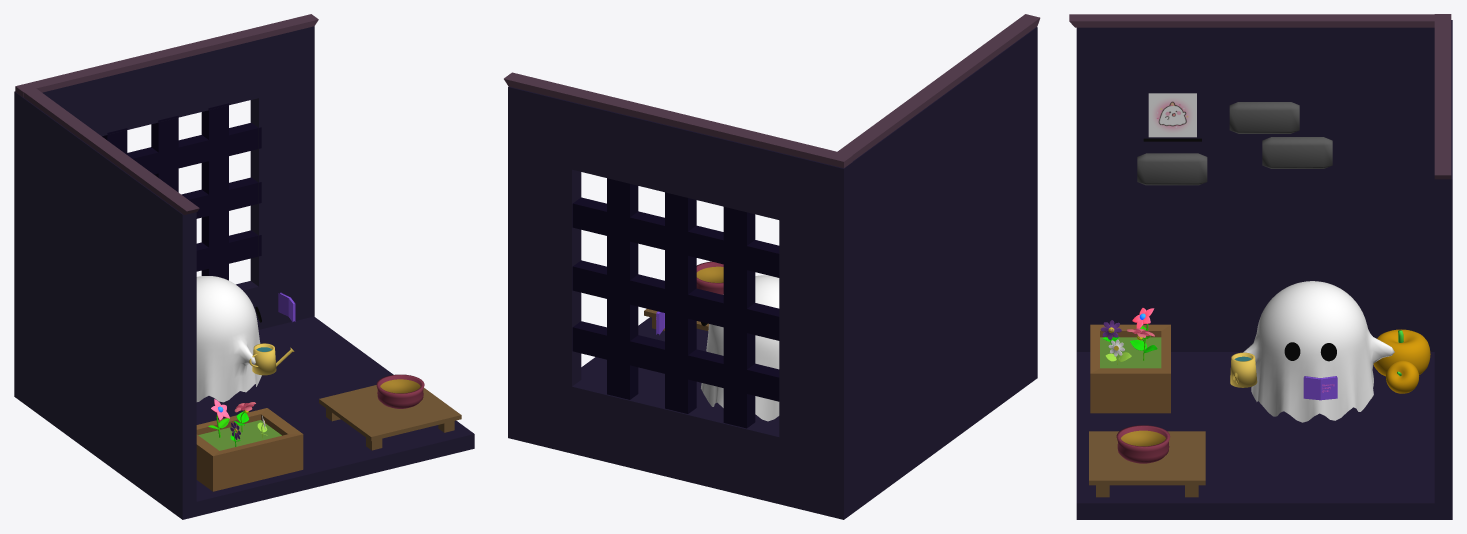
The model's file is mystblloom1a.glb.
The picture shows the model from 3 angles, left to right: view 1: azimuth 30°, elevation 25°; view 2: azimuth 150°, elevation 25°; view 3: azimuth 270°, elevation 25°; orthographic projection. The views are drawn at different scales.
Visible parts, largest first — view 1: Plane, Sphere.004, Cube.009, Cube.027, Cube.002, Cube.003, Cube.004, Cube.001, Cube.005, Sphere.003, Plane.001, Cylinder; view 2: Plane, Cube, Cube.001, Cube.002, Cube.003, Cube.005, Cube.004, Sphere.004, Sphere.003; view 3: Plane, Sphere.004, Cube.009, Cube.027, cuteghost, Cube.008, Cube.007, Cube.006, Sphere.003, Sphere.005, Plane.001, Sphere.006 (+1 smaller).
Part boxes in pixels (<box>): Plane: <box>14,14,474,519</box>; Sphere.004: <box>196,276,261,402</box>; Cube.009: <box>196,408,303,491</box>; Cube.027: <box>319,385,461,441</box>; Cube.002: <box>201,103,228,280</box>; Cube.003: <box>127,122,261,174</box>; Cube.004: <box>181,177,261,218</box>; Cube.001: <box>151,115,178,192</box>; Cube.005: <box>196,230,261,271</box>; Sphere.003: <box>376,374,424,408</box>; Plane.001: <box>198,420,281,450</box>; Cylinder: <box>252,343,276,375</box>; Plane: <box>504,14,1040,519</box>; Cube: <box>723,207,755,428</box>; Cube.001: <box>665,192,696,413</box>; Cube.002: <box>607,178,638,399</box>; Cube.003: <box>572,197,779,277</box>; Cube.005: <box>572,321,779,401</box>; Cube.004: <box>572,260,779,340</box>; Sphere.004: <box>701,275,779,421</box>; Sphere.003: <box>696,261,723,294</box>; Plane: <box>1069,14,1452,519</box>; Sphere.004: <box>1243,281,1394,422</box>; Cube.009: <box>1090,324,1170,413</box>; Cube.027: <box>1089,431,1205,485</box>; cuteghost: <box>1143,93,1201,141</box>; Cube.008: <box>1137,153,1207,185</box>; Cube.007: <box>1262,137,1332,168</box>; Cube.006: <box>1229,102,1299,133</box>; Sphere.003: <box>1116,425,1170,463</box>; Sphere.005: <box>1373,329,1430,376</box>; Plane.001: <box>1100,337,1161,368</box>; Sphere.006: <box>1386,360,1419,393</box>.
Size of the model in its own units: 19.59 by 19.81 by 19.66.
Materials: 70 (4 with a texture image).
